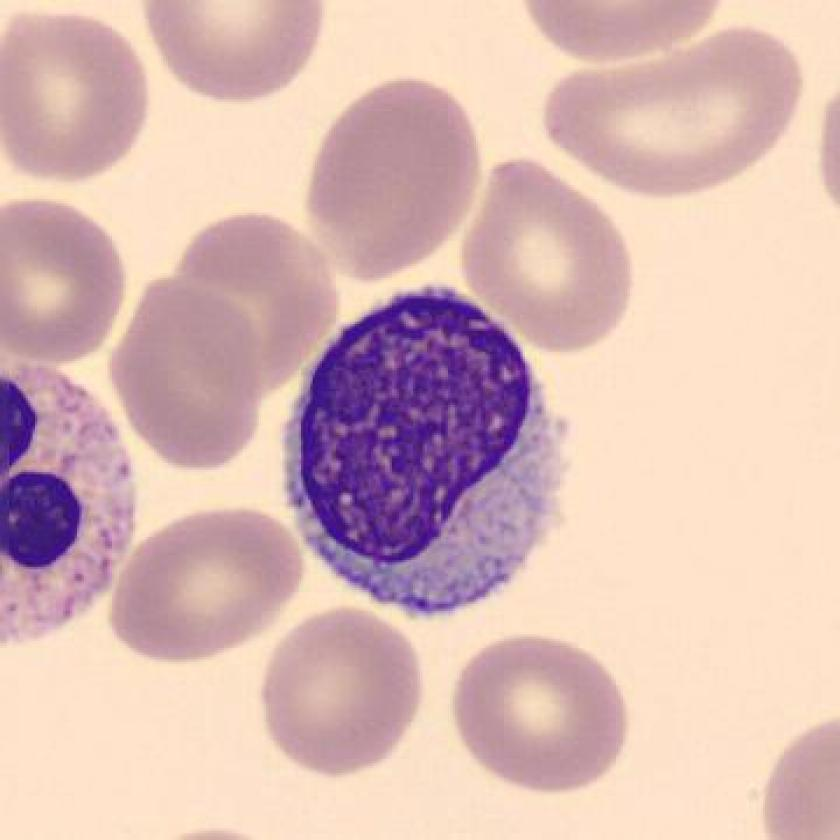lymphocyte: (267, 281, 589, 633)
neutrophil: (1, 355, 148, 648)
